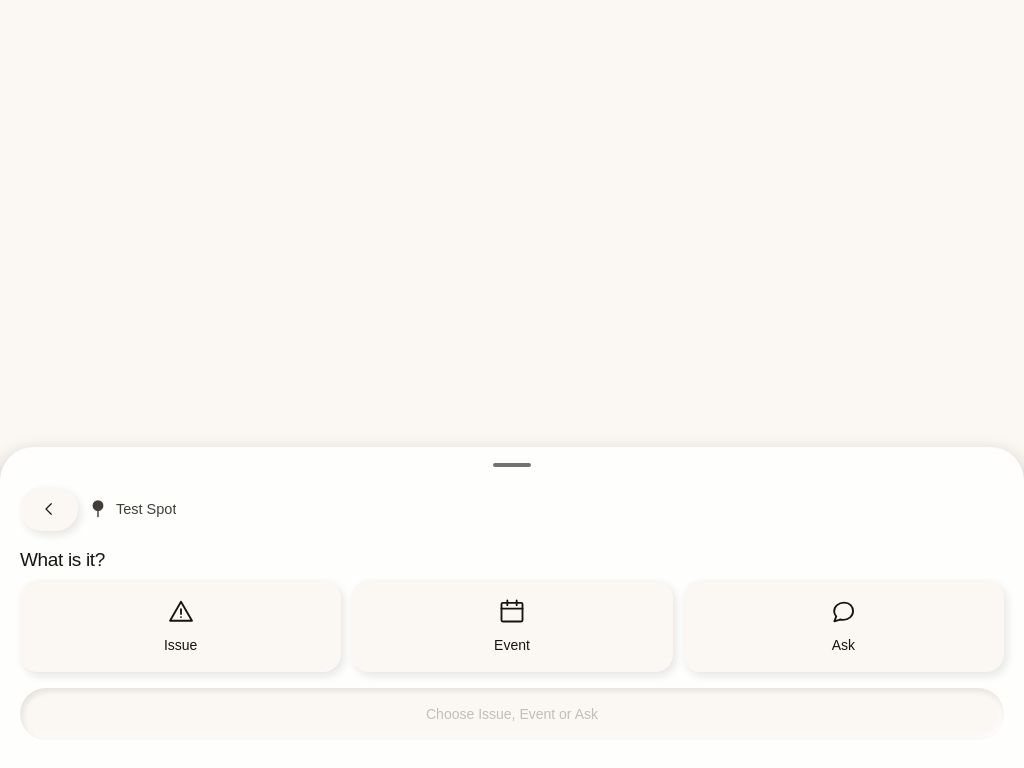
Scenario: details › a failed post shows a plain message and keeps the text
Click the radio button labelled "Issue": click(181, 626) [20, 580, 341, 672]
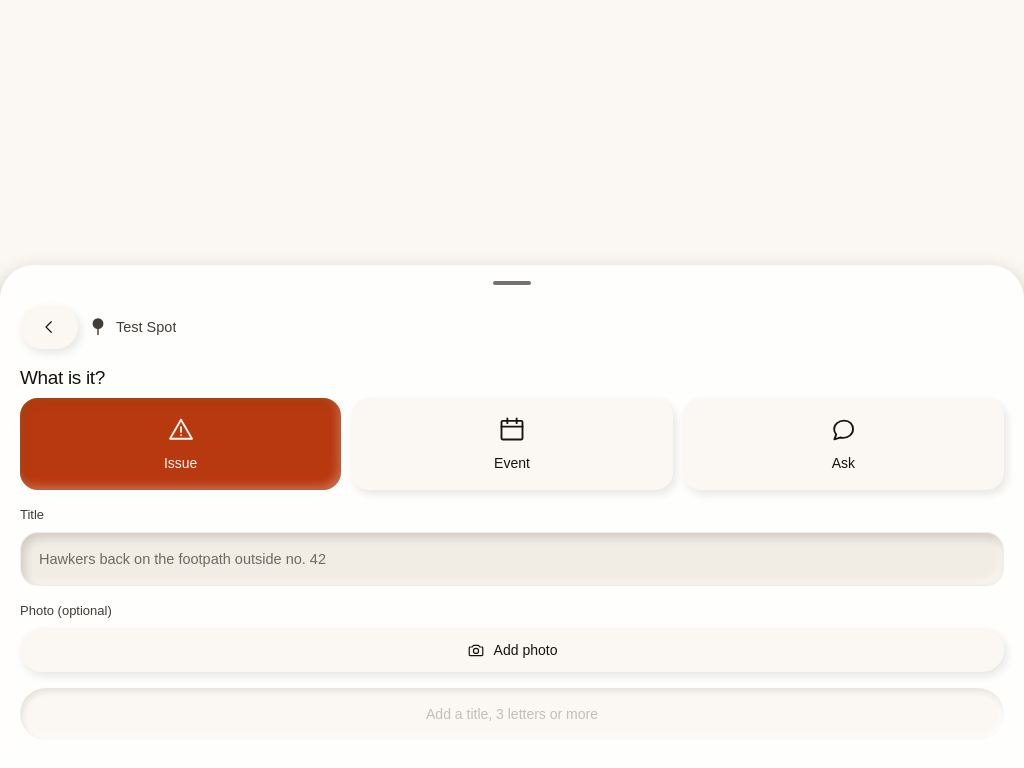
In the field labelled "Title": (512, 559) [20, 532, 1004, 586], type "Keep me"
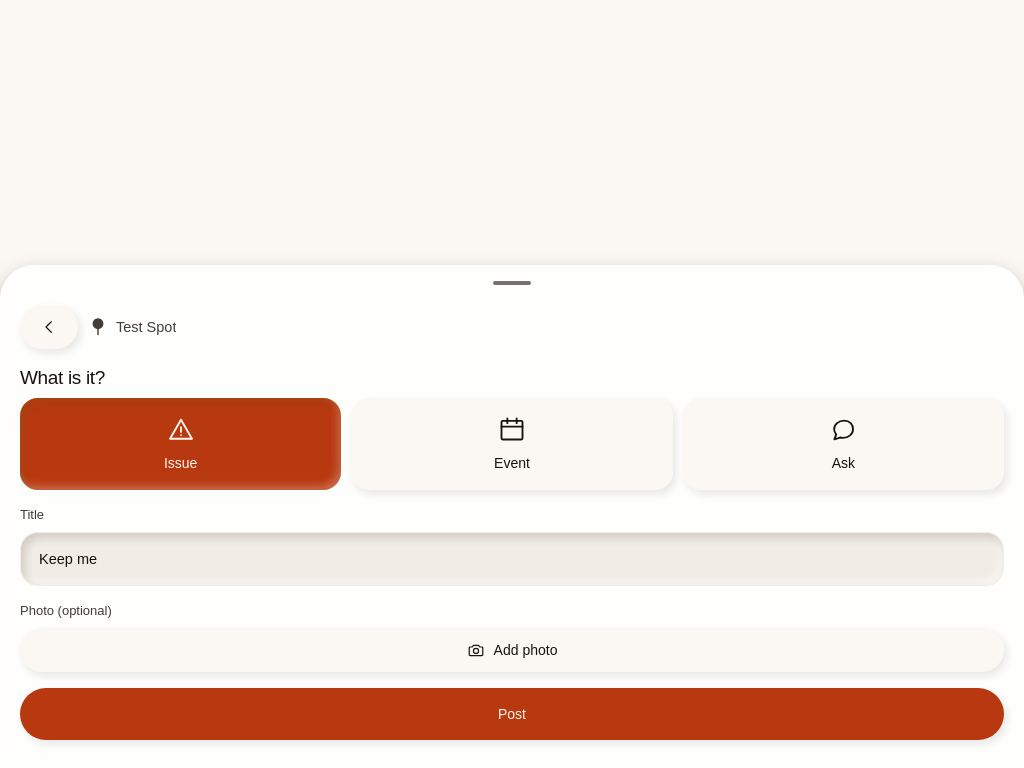
Click the button "Post": click(512, 714) [20, 688, 1004, 740]
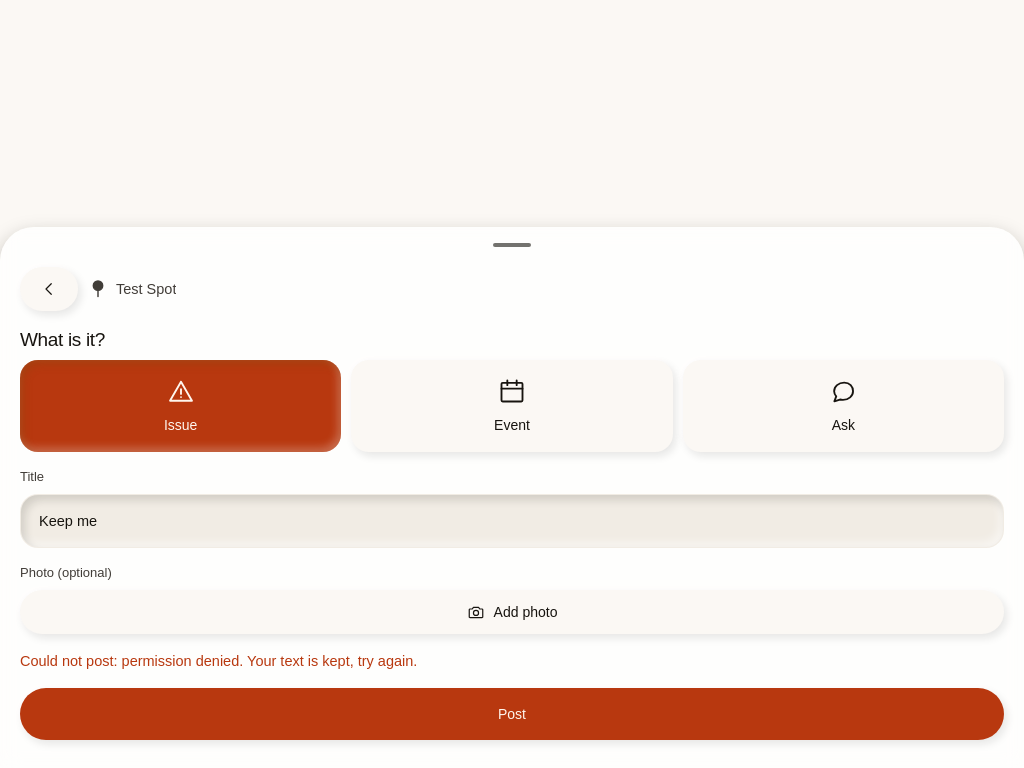
Expected: the message shows "permission denied", [20, 653, 417, 669]
